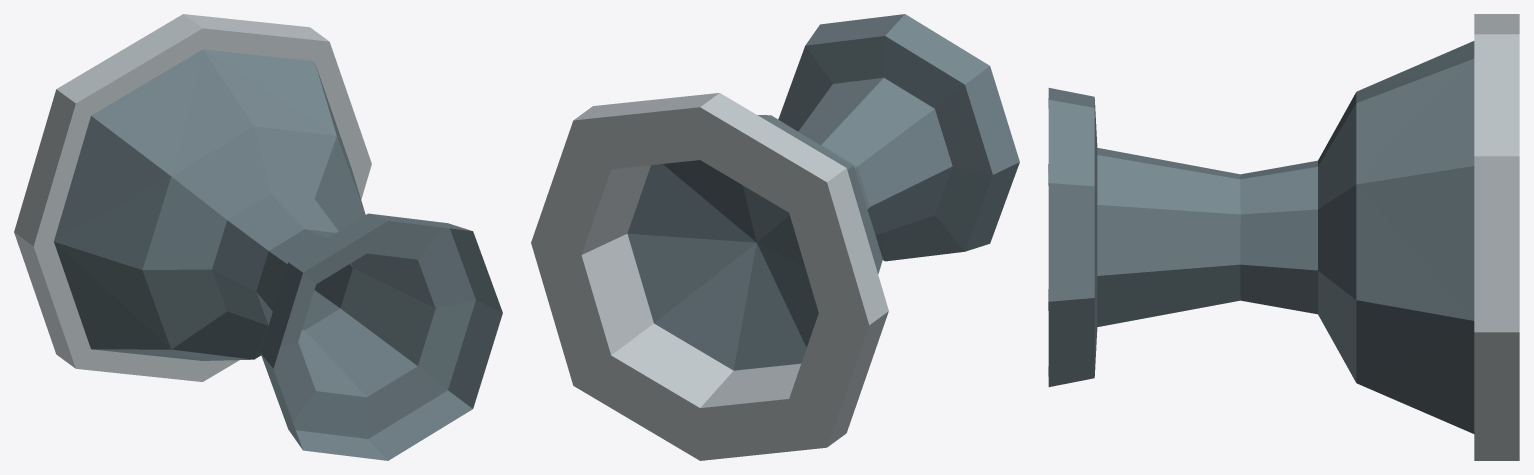
The model's file is Fire Stand 01.FBX.
The picture shows the model from 3 angles, left to right: view 1: azimuth 30°, elevation 25°; view 2: azimuth 150°, elevation 25°; view 3: azimuth 270°, elevation 25°; orthographic projection. The views are drawn at different scales.
Visible parts, largest first — view 1: Fire Stand 01; view 2: Fire Stand 01; view 3: Fire Stand 01.
Part boxes in pixels (left/top/right/bottom): Fire Stand 01: left=14, top=14, right=502, bottom=460; Fire Stand 01: left=531, top=14, right=1019, bottom=460; Fire Stand 01: left=1048, top=14, right=1519, bottom=460.
Bounding box in the file's own units: 73.28 × 76.92 × 73.22.
